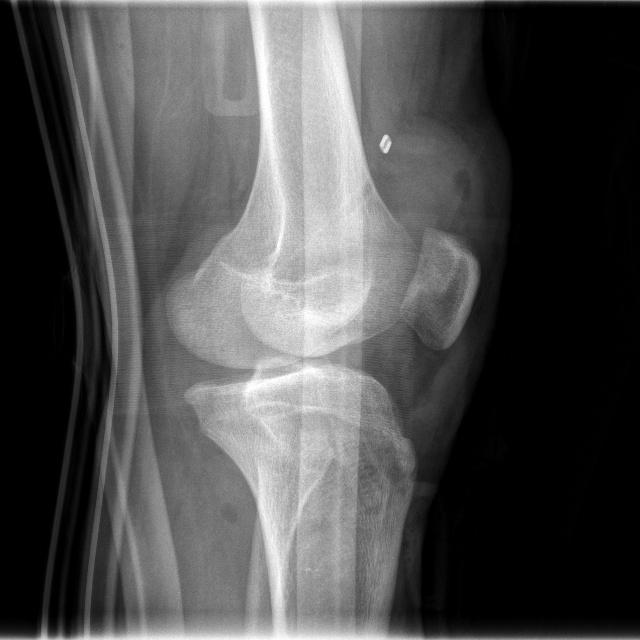Knee: (166, 221, 480, 466)
